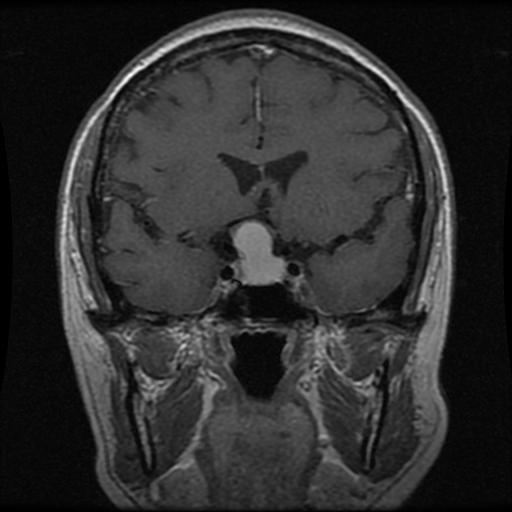Pituirity_tumour: (231, 219, 284, 284)
